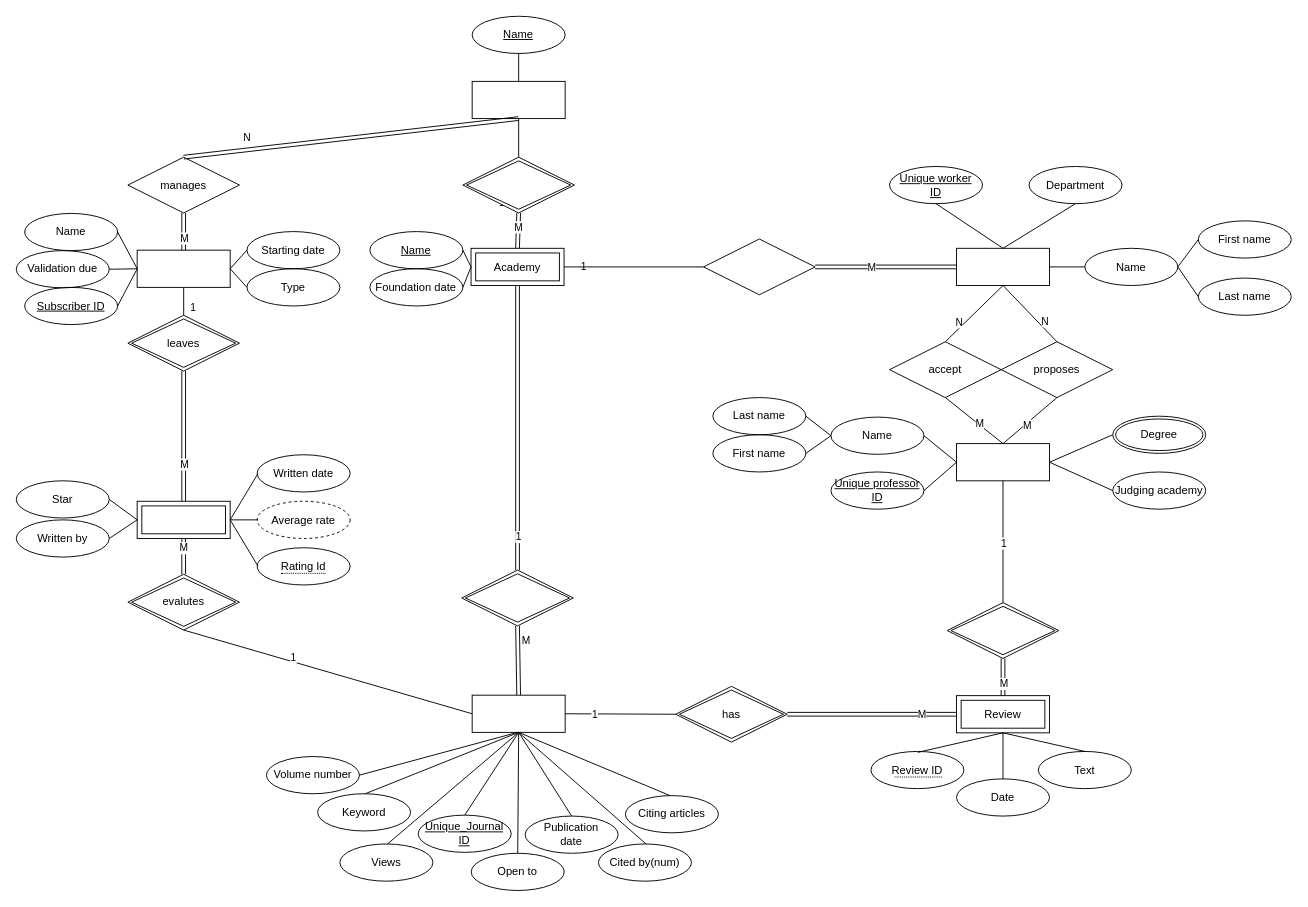
Image size: 1308x907. Some labels were removed from this diagram. The shapes that lost their labels are listed below. From the top down, each one's centre as x and y in pixels, then its label:
At (518,99): "Institute".
At (518,184): "Provides".
At (183,268): "Subscriber".
At (759,266): "hire".
At (1003,266): "Academy-worker".
At (1003,462): "Professer".
At (183,519): "Rating".
At (517,597): "includes".
At (1002,630): "writes".
At (518,713): "Journal".
